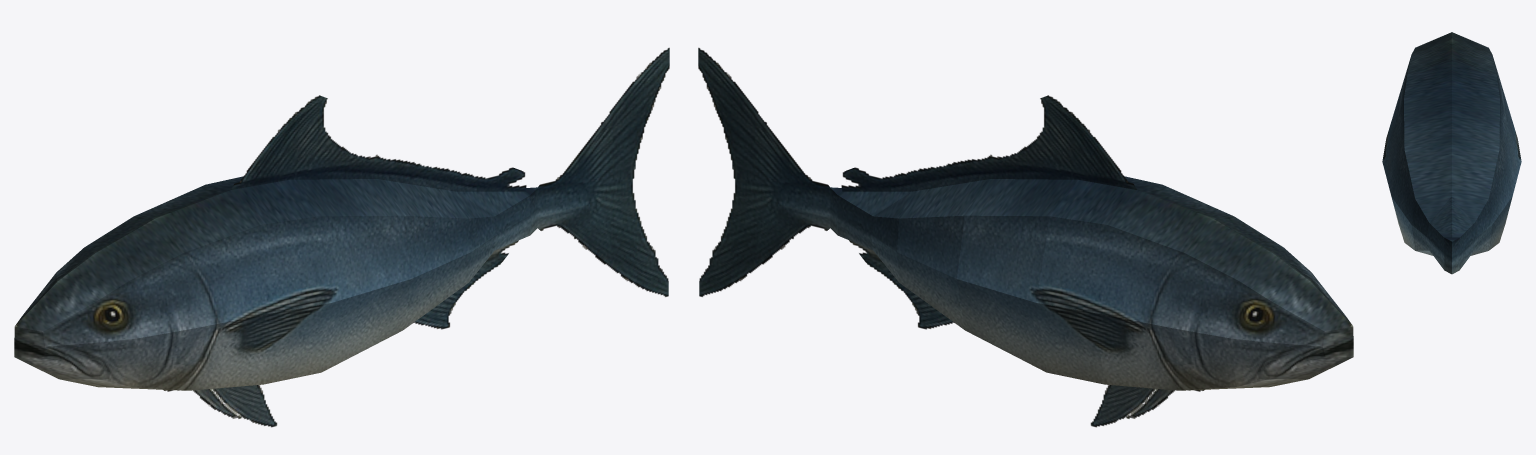
File: Tuna.glb
3 renders of one model, left to right at view 1: azimuth 30°, elevation 25°; view 2: azimuth 150°, elevation 25°; view 3: azimuth 270°, elevation 25°, orthographic. The views are drawn at different scales.
Visible parts, largest first — view 1: Tuna; view 2: Tuna; view 3: Tuna.
Boxes of the visible parts, x1,y1,x2,y2 form: Tuna: (14, 48, 669, 427); Tuna: (698, 48, 1353, 427); Tuna: (1382, 32, 1521, 274).
Bounding box in the file's own units: 1.79 × 0.9023 × 0.4063.
1 material, 1 textured.
